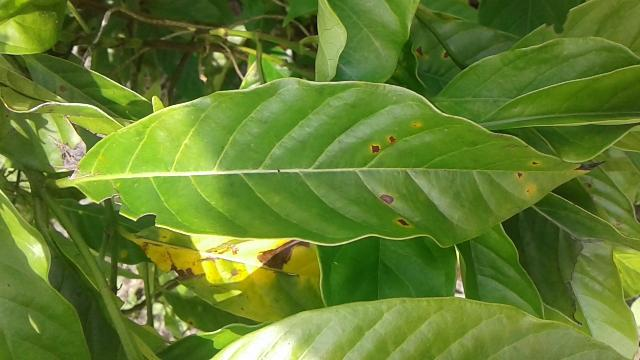rust_level_2: (68, 78, 604, 248)
